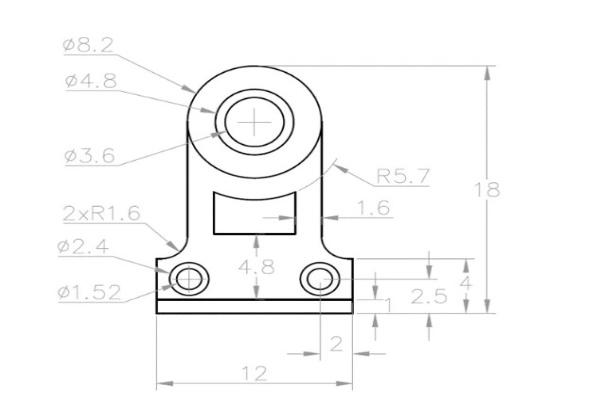dimensions: (47, 273, 135, 307), (55, 198, 152, 226), (371, 158, 439, 190), (55, 28, 120, 59), (47, 233, 118, 261), (349, 189, 404, 223), (62, 142, 123, 169), (60, 69, 123, 94), (232, 253, 285, 279), (471, 173, 507, 207), (409, 284, 453, 311), (236, 359, 275, 389), (455, 268, 480, 295), (326, 331, 350, 357)
